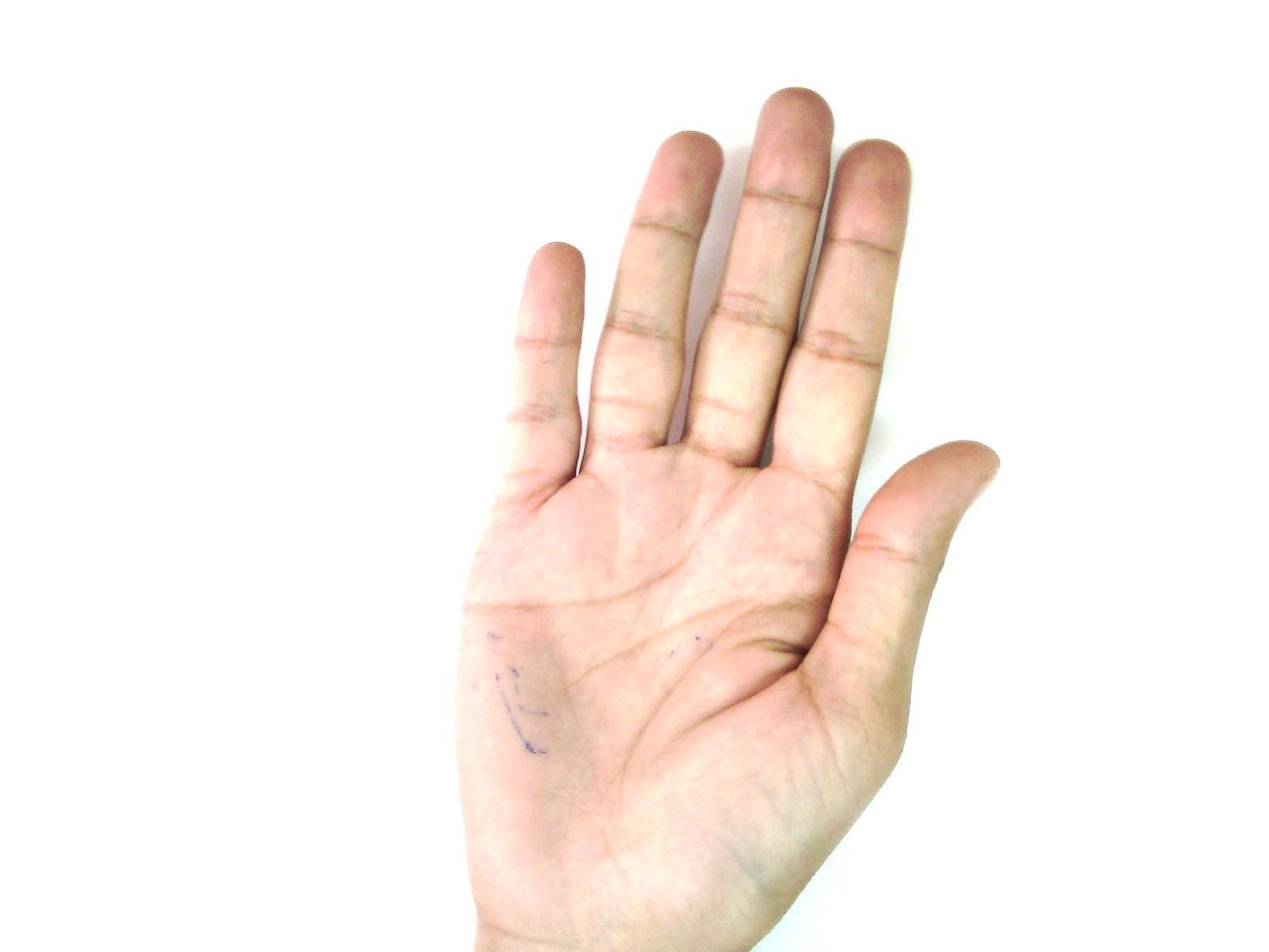open_palm: (450, 86, 1003, 951)
